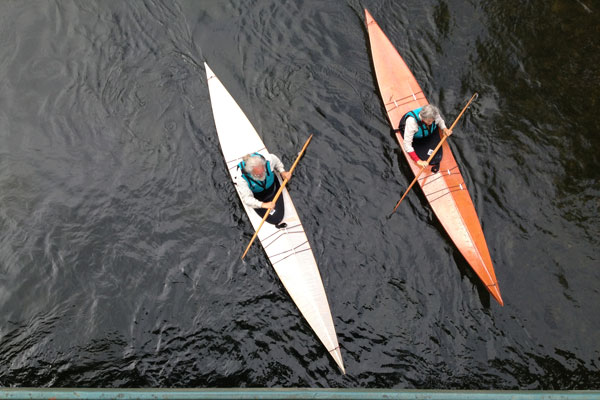kayaker: (200, 60, 350, 378), (362, 8, 510, 307)
